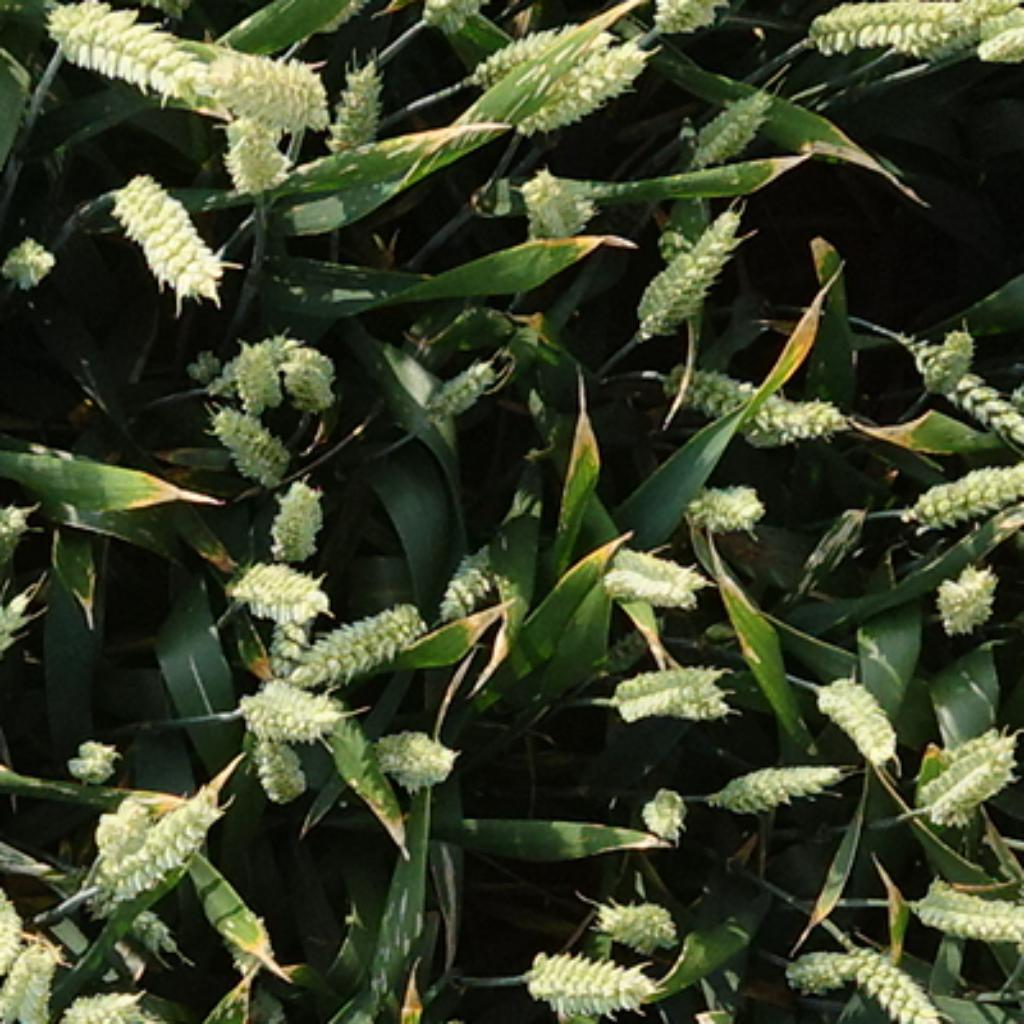0-0: (33, 0, 230, 97), (79, 778, 230, 903), (102, 171, 225, 307), (629, 202, 750, 337), (506, 33, 655, 135), (786, 2, 982, 69), (186, 35, 330, 122), (911, 340, 1021, 448), (291, 593, 427, 678), (911, 711, 1018, 819), (517, 936, 660, 1013), (53, 865, 176, 949), (665, 353, 791, 432), (839, 936, 949, 1024), (903, 453, 1024, 532), (463, 23, 616, 84), (604, 647, 732, 719), (704, 744, 844, 808), (811, 668, 903, 762), (911, 875, 1021, 944), (596, 532, 701, 604), (235, 670, 343, 739), (739, 378, 855, 442), (688, 81, 778, 163), (207, 396, 296, 478), (222, 550, 327, 619), (435, 529, 512, 619), (363, 714, 460, 785), (904, 0, 1024, 56), (514, 158, 601, 235), (202, 335, 289, 409), (217, 104, 291, 189), (325, 53, 389, 151), (263, 573, 320, 680), (419, 355, 501, 427), (929, 560, 1000, 634), (683, 471, 768, 532), (591, 888, 680, 944), (266, 473, 327, 552), (243, 724, 309, 796), (92, 793, 158, 865), (0, 944, 58, 1024), (778, 944, 867, 993), (51, 977, 143, 1024), (921, 322, 975, 394), (281, 337, 335, 407), (0, 230, 58, 291), (0, 586, 47, 661), (632, 788, 688, 847), (58, 732, 120, 783), (0, 488, 33, 573), (645, 2, 729, 35), (0, 872, 25, 970), (980, 30, 1024, 61), (189, 350, 222, 381)
